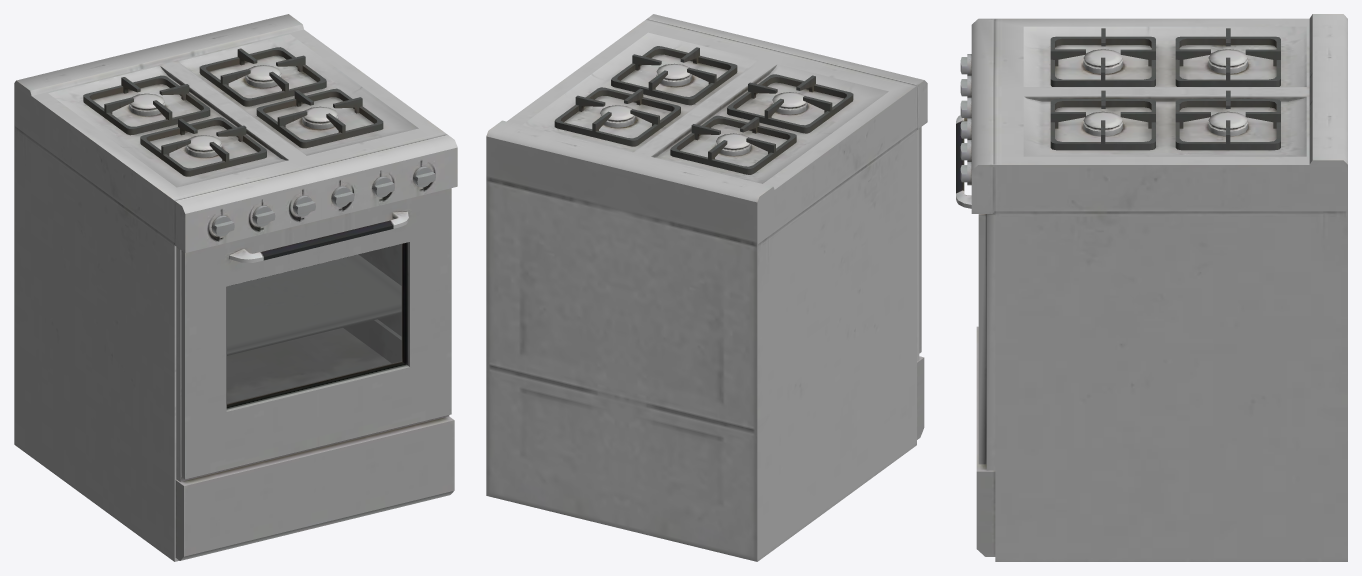
The model's file is oven.glb.
The picture shows the model from 3 angles, left to right: view 1: azimuth 30°, elevation 25°; view 2: azimuth 150°, elevation 25°; view 3: azimuth 270°, elevation 25°; orthographic projection. The views are drawn at different scales.
Parts seen in each view (by area): view 1: Object_10, Object_11; view 2: Object_10; view 3: Object_10.
Boxes of the visible parts, x1,y1,x2,y2 form: Object_10: (14, 14, 457, 561); Object_11: (227, 244, 402, 404); Object_10: (486, 14, 927, 561); Object_10: (956, 14, 1347, 561).
Size of the model in its own units: 0.7446 by 0.9674 by 0.8432.
Materials: 2 (1 with a texture image).
